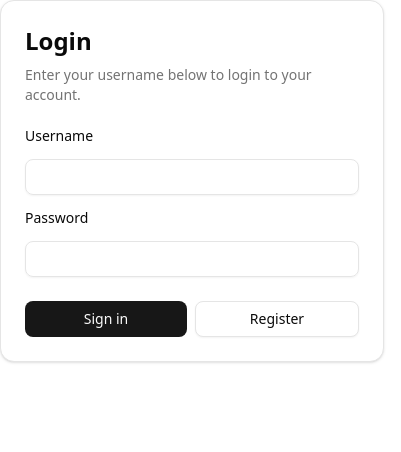
Test: LoginForm Component › shows validation errors for empty fields
What coordinates should you click on to do the following:
click the button "Sign in"
I would click on:
 (106, 319)
Its box is [25, 301, 187, 337].
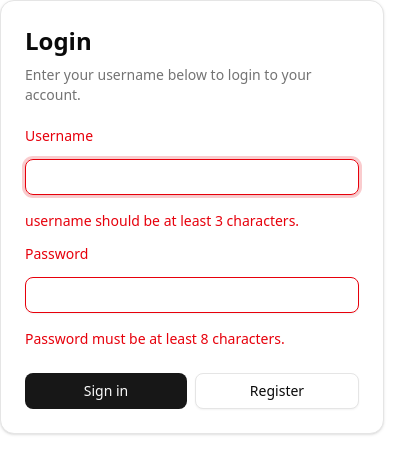
Now the text "username should be at least 3 characters." is shown, box [25, 211, 299, 230]
Now the text "Password must be at least 8 characters." is shown, box [25, 329, 285, 348]
